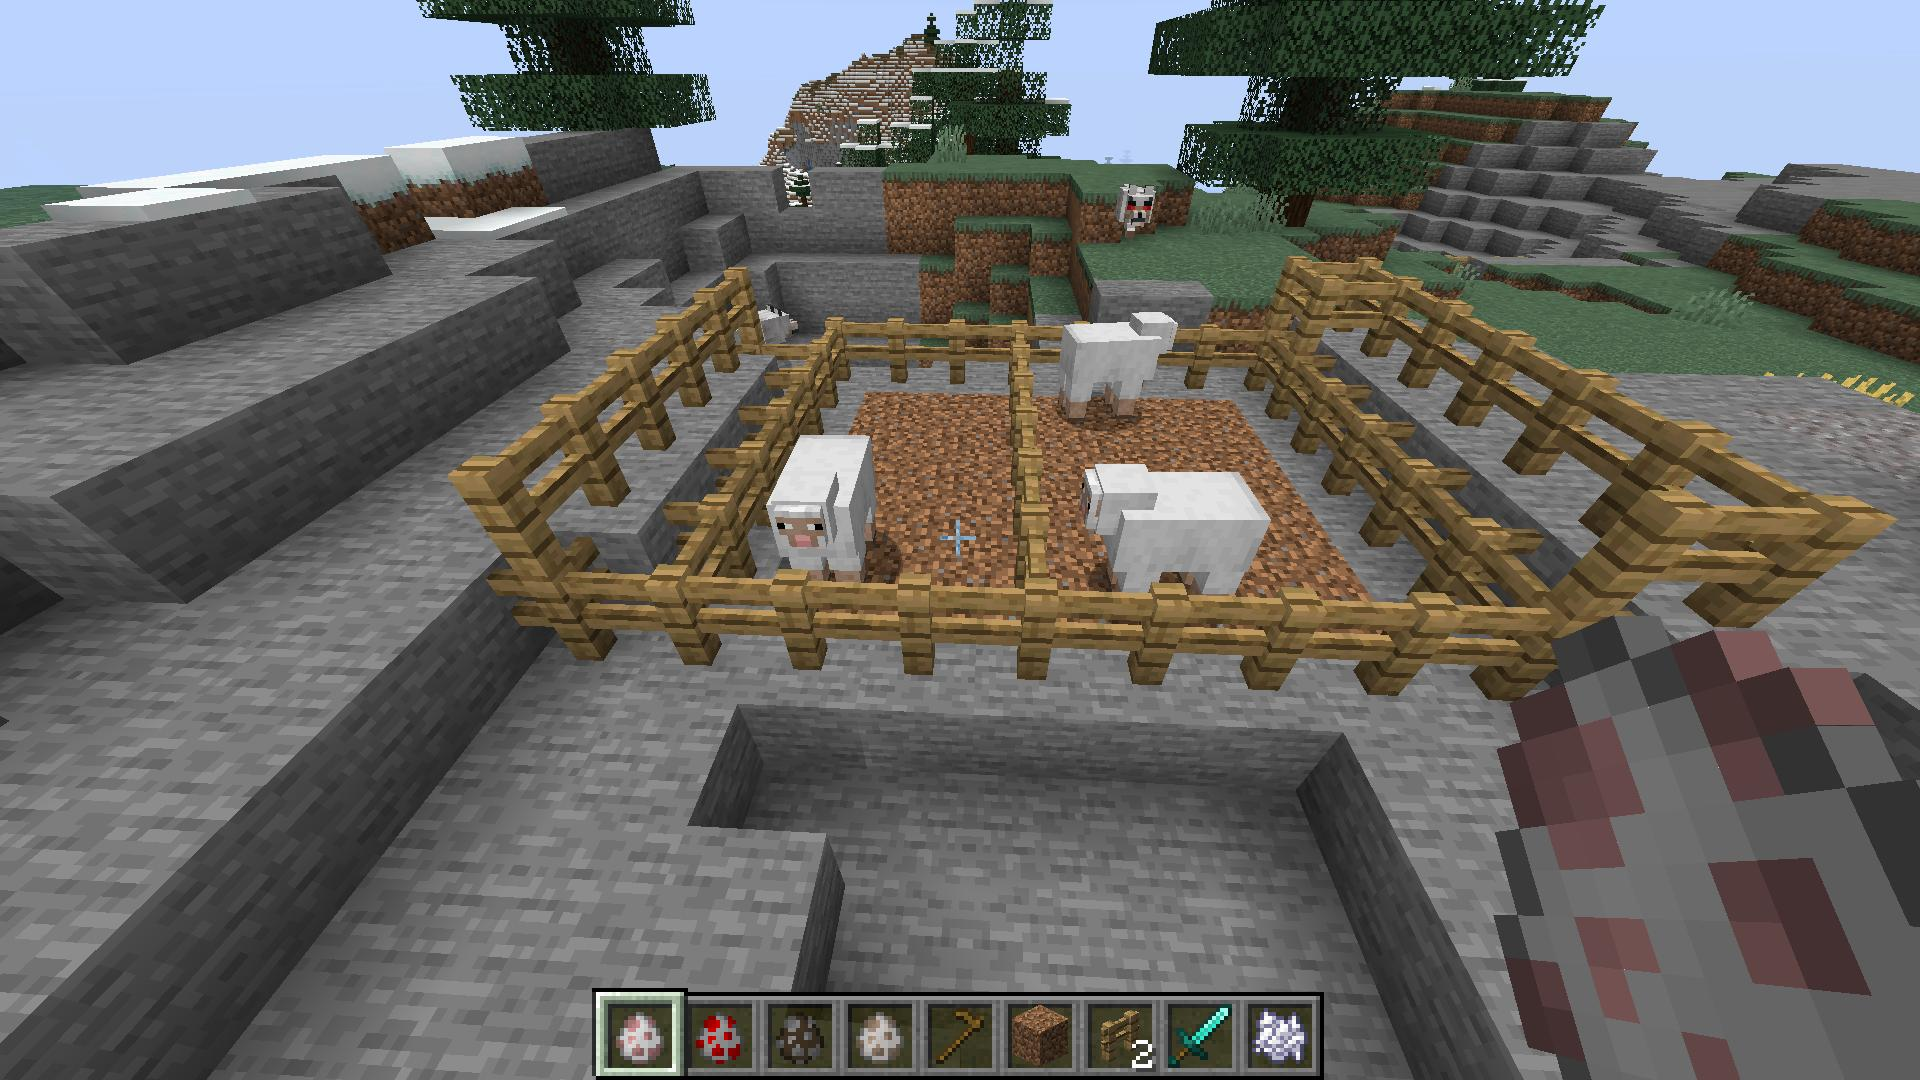sheep: (1079, 463, 1273, 597), (766, 429, 886, 584), (1059, 309, 1182, 425)
